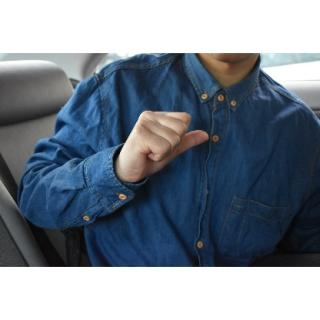WAW: (117, 104, 217, 187)
